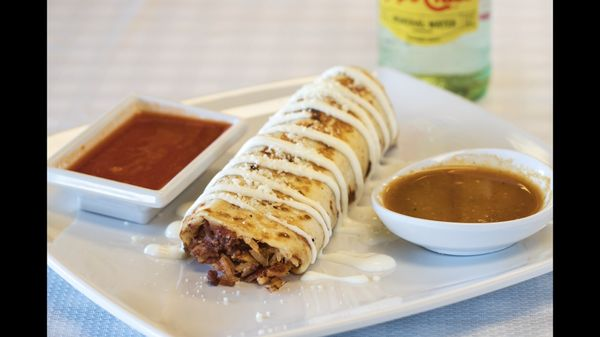soup: (177, 63, 399, 290)
sushi: (370, 146, 552, 255)
